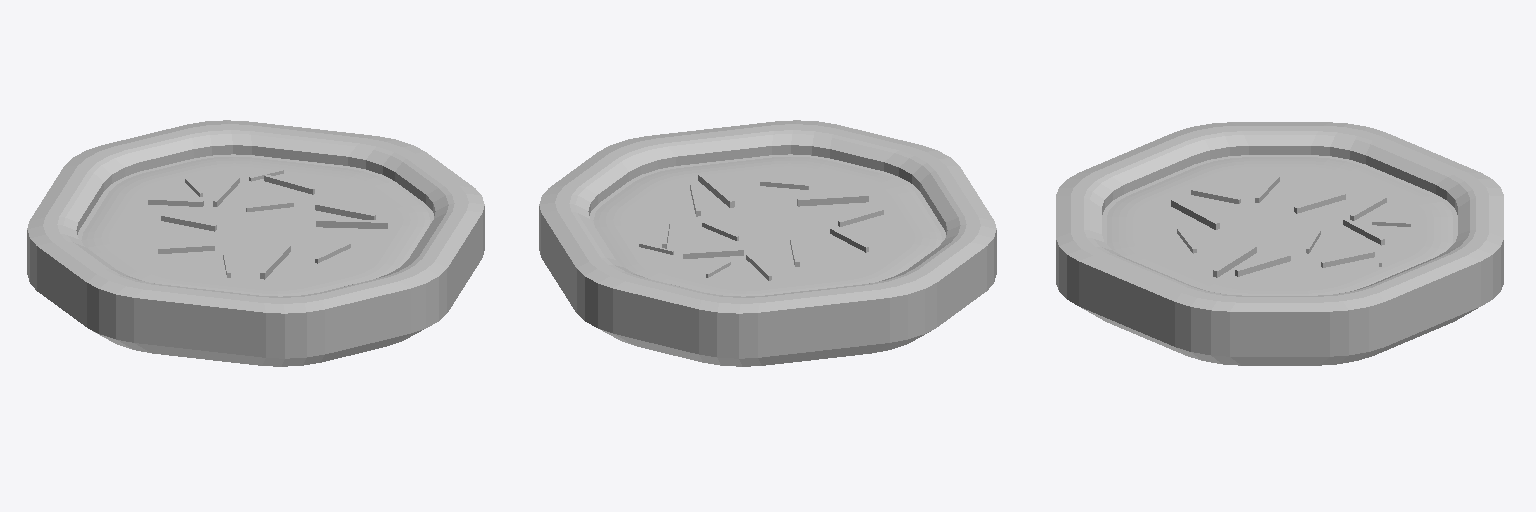
The model's file is Veggie.obj.
The picture shows the model from 3 angles: view 1: azimuth 30°, elevation 25°; view 2: azimuth 150°, elevation 25°; view 3: azimuth 270°, elevation 25°; orthographic projection.
Visible parts, largest first — view 1: Veggie_Pizza_Cube.008; view 2: Veggie_Pizza_Cube.008; view 3: Veggie_Pizza_Cube.008.
Part boxes in pixels (bbox=[...]): Veggie_Pizza_Cube.008: bbox=[27, 120, 484, 366]; Veggie_Pizza_Cube.008: bbox=[539, 120, 996, 366]; Veggie_Pizza_Cube.008: bbox=[1056, 122, 1503, 365].
Bounding box in the file's own units: 2 × 0.4132 × 2.